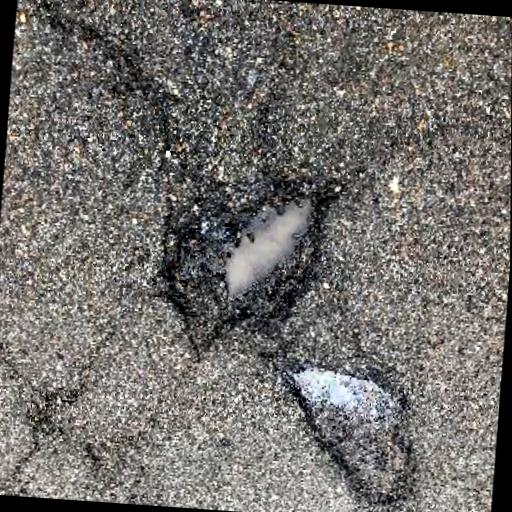pothole: (150, 168, 341, 374), (273, 361, 428, 512)
